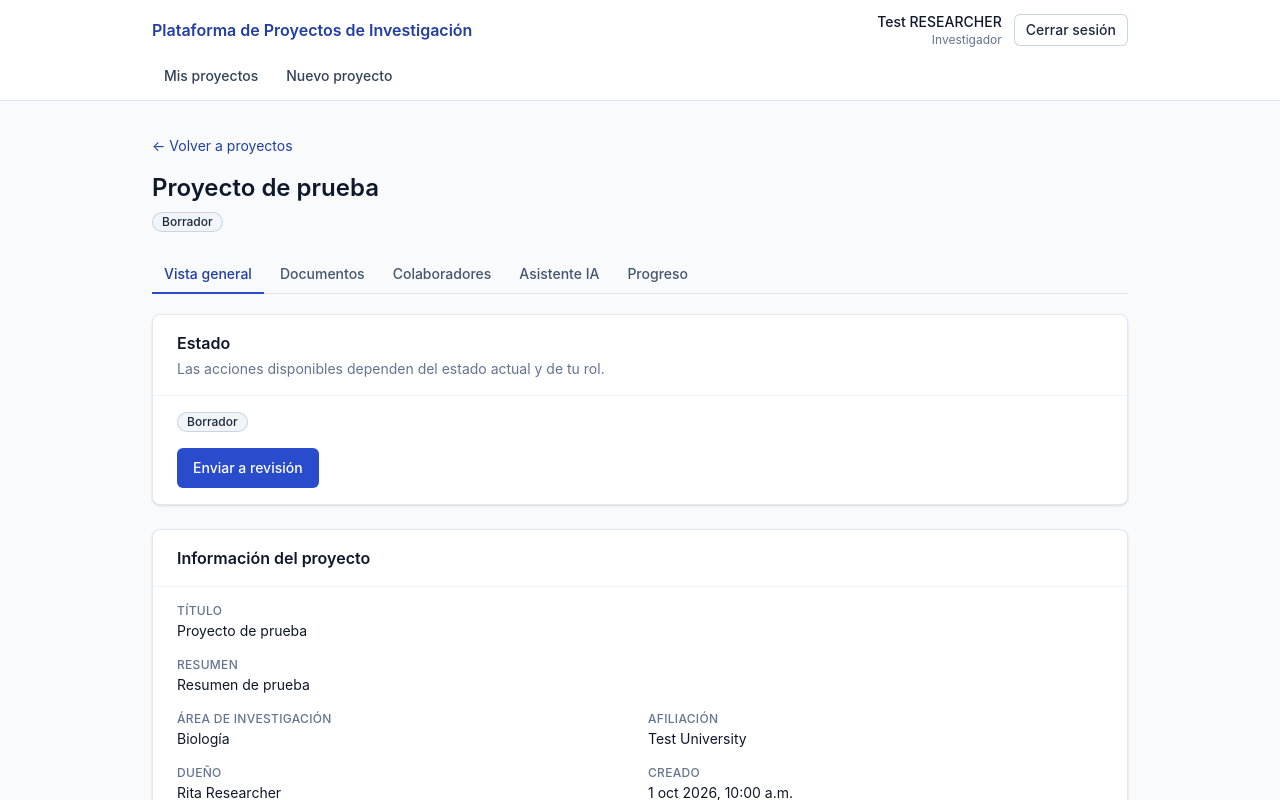
project workspace: tabs › Asistente IA and Progreso are labelled placeholders for a later week, with no fake data
Click the tab "Asistente IA": (559, 275) [507,256,611,294]
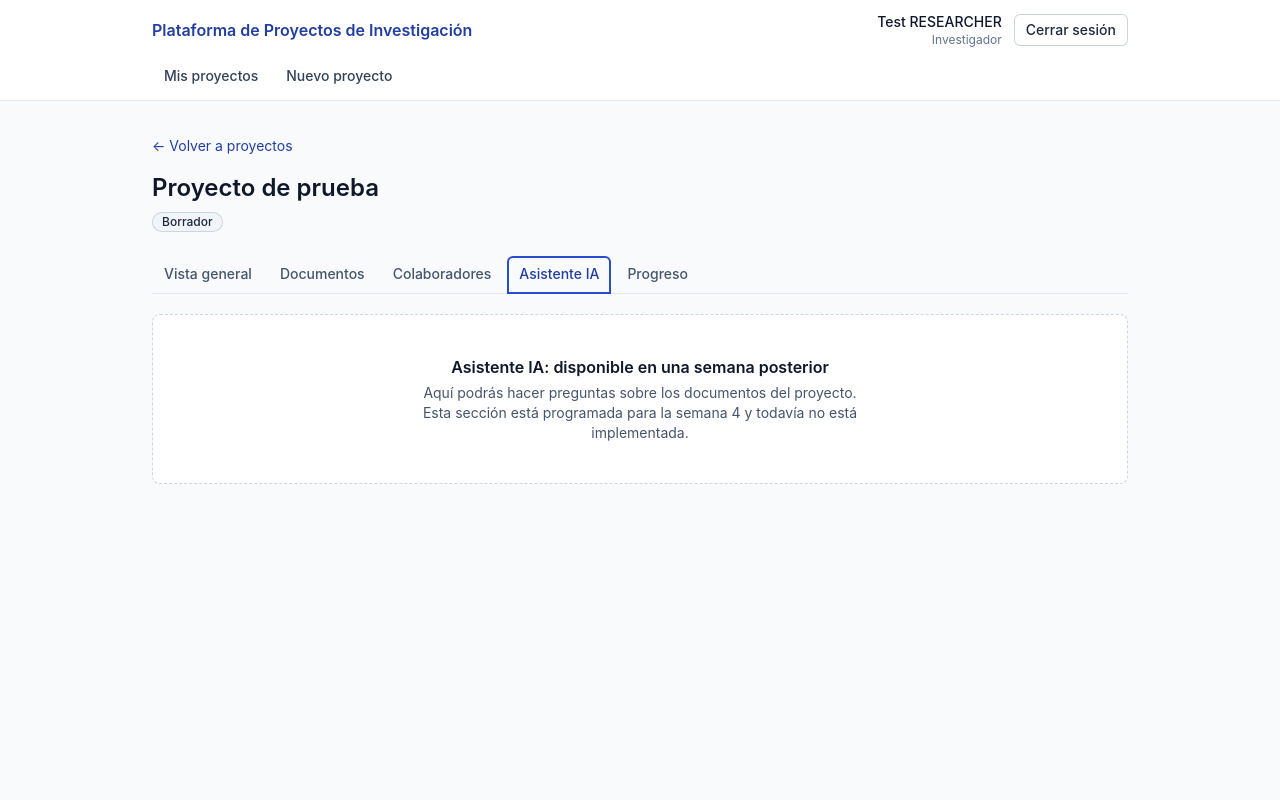
Now the text "Asistente IA: disponible en una semana posterior" is shown, box [451,357,829,377]
Click the tab "Progreso": (658, 275) [615,256,700,294]
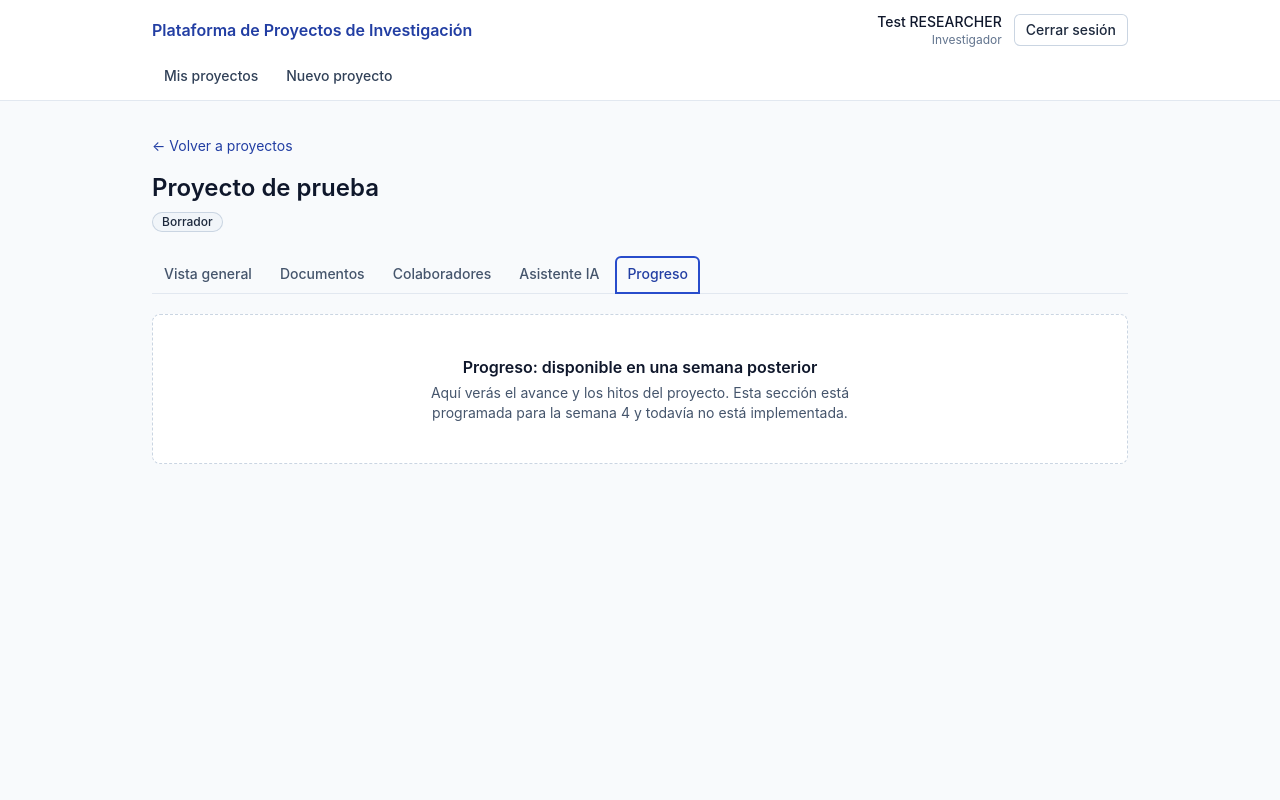
Now the text "Progreso: disponible en una semana posterior" is shown, box [463,357,817,377]
